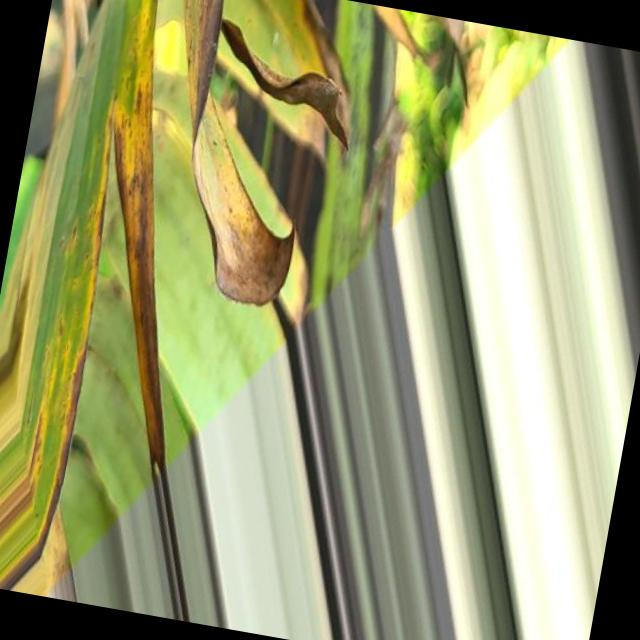Banana_Black_Sigatoka: (0, 77, 220, 610), (123, 0, 409, 328)
